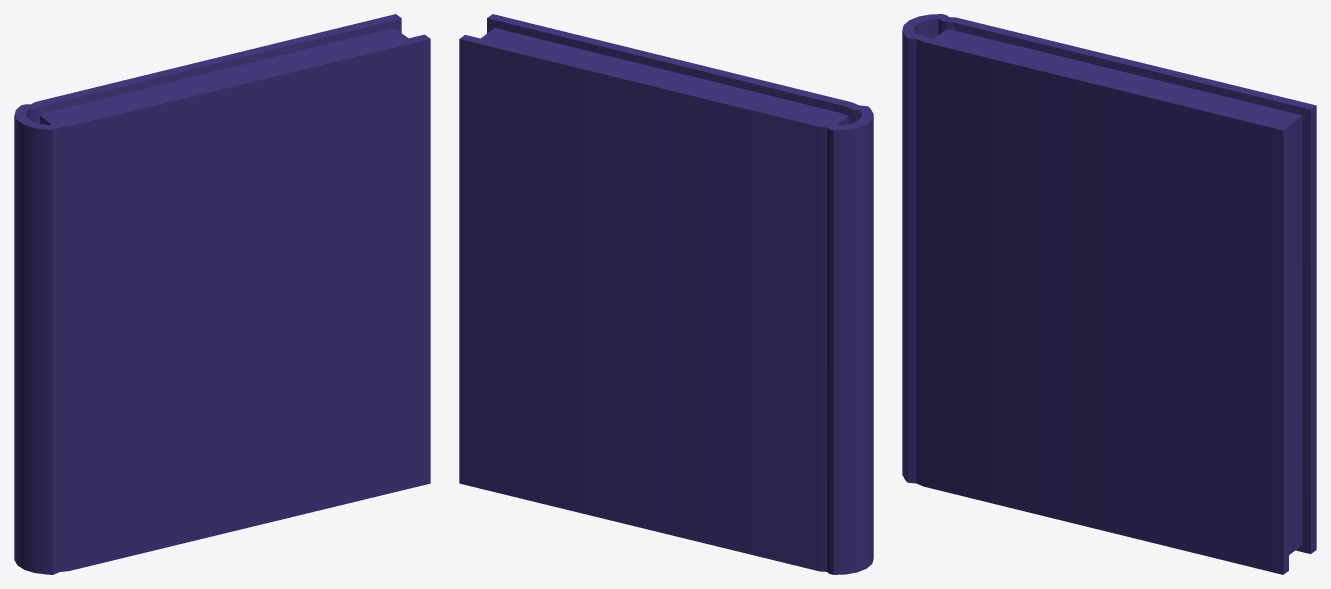
The model's file is bookHigh.fbx.
The picture shows the model from 3 angles, left to right: view 1: azimuth 30°, elevation 25°; view 2: azimuth 150°, elevation 25°; view 3: azimuth 330°, elevation 25°; orthographic projection.
Parts seen in each view (by area): view 1: Circle.007; view 2: Circle.007; view 3: Circle.007.
Part boxes in pixels (x1,y1,x2,y2): Circle.007: (14, 14, 430, 574); Circle.007: (459, 14, 873, 574); Circle.007: (902, 14, 1316, 574).
Bounding box in the file's own units: 81.58 × 88.09 × 12.28.
